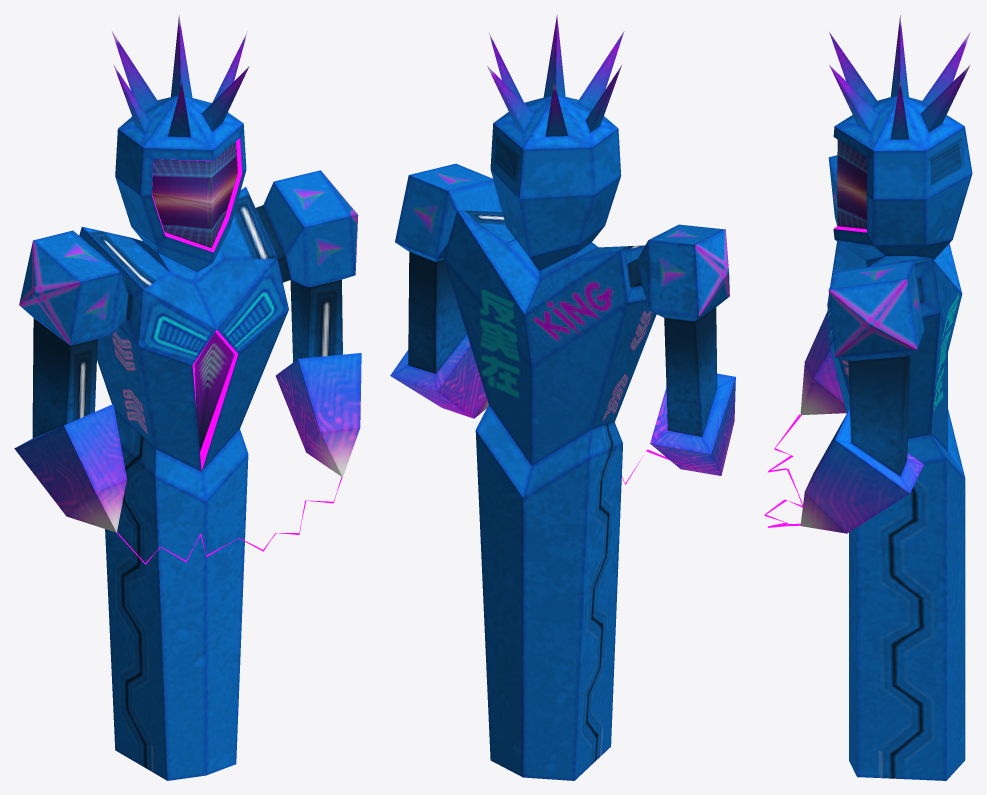
The model's file is Etherium_King.glb.
The picture shows the model from 3 angles, left to right: view 1: azimuth 30°, elevation 25°; view 2: azimuth 150°, elevation 25°; view 3: azimuth 270°, elevation 25°; orthographic projection.
Visible parts, largest first — view 1: King; view 2: King; view 3: King.
Boxes of the visible parts, x1,y1,x2,y2 form: King: (14,14,361,780); King: (390,14,735,780); King: (764,15,972,780).
Bounding box in the file's own units: 0.9837 × 2.06 × 0.5436.
2 materials, 1 textured.
